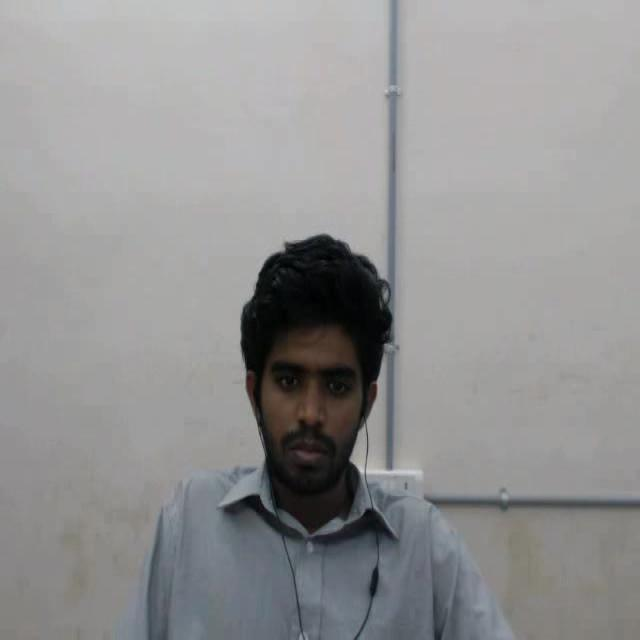Engaged: (225, 222, 408, 524)
